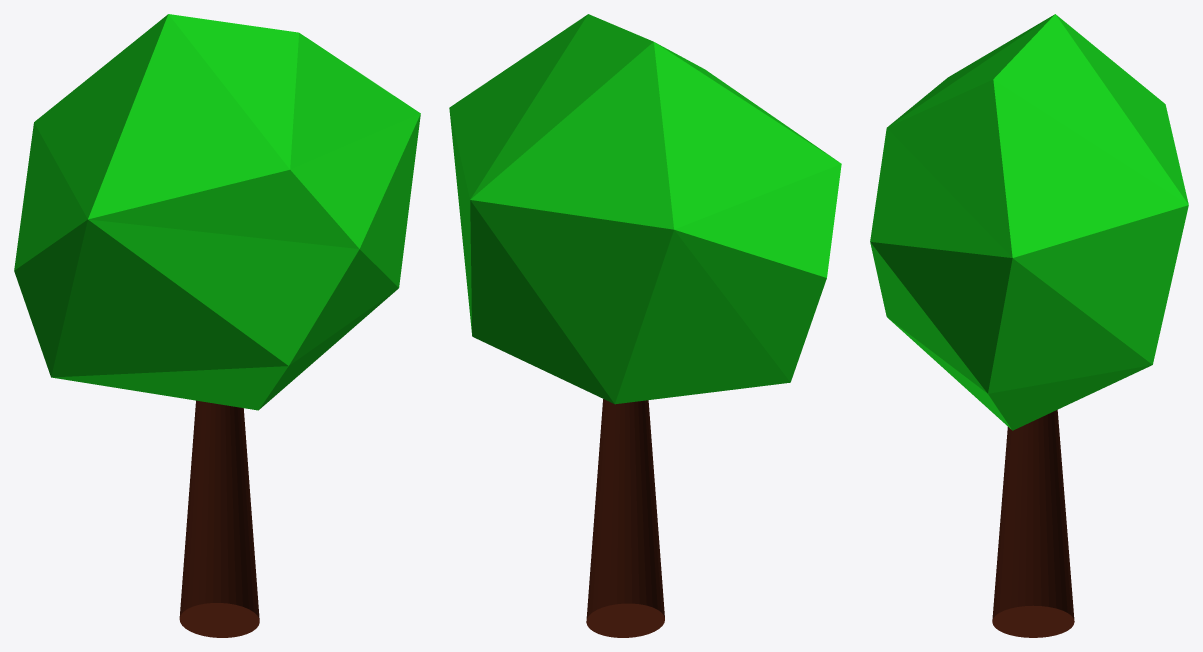
File: tree.obj
3 renders of one model, left to right at view 1: azimuth 30°, elevation 25°; view 2: azimuth 150°, elevation 25°; view 3: azimuth 270°, elevation 25°, orthographic. The views are drawn at different scales.
Parts seen in each view (by area): view 1: Icosphere, Cylinder; view 2: Icosphere, Cylinder; view 3: Icosphere, Cylinder.
Part boxes in pixels (x1,y1,x2,y2): Icosphere: (14, 14, 420, 410); Cylinder: (179, 400, 259, 637); Icosphere: (449, 14, 841, 404); Cylinder: (586, 399, 664, 637); Icosphere: (870, 14, 1188, 430); Cylinder: (992, 410, 1074, 637).
Bounding box in the file's own units: 6.98 × 10.25 × 5.03.
